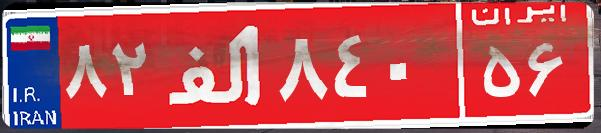0: (385, 28, 445, 110)
2: (110, 28, 158, 105)
4: (330, 28, 385, 110)
5: (475, 38, 525, 113)
6: (525, 38, 570, 115)
8: (273, 28, 330, 110), (57, 26, 110, 107)
الف: (158, 15, 273, 115)
